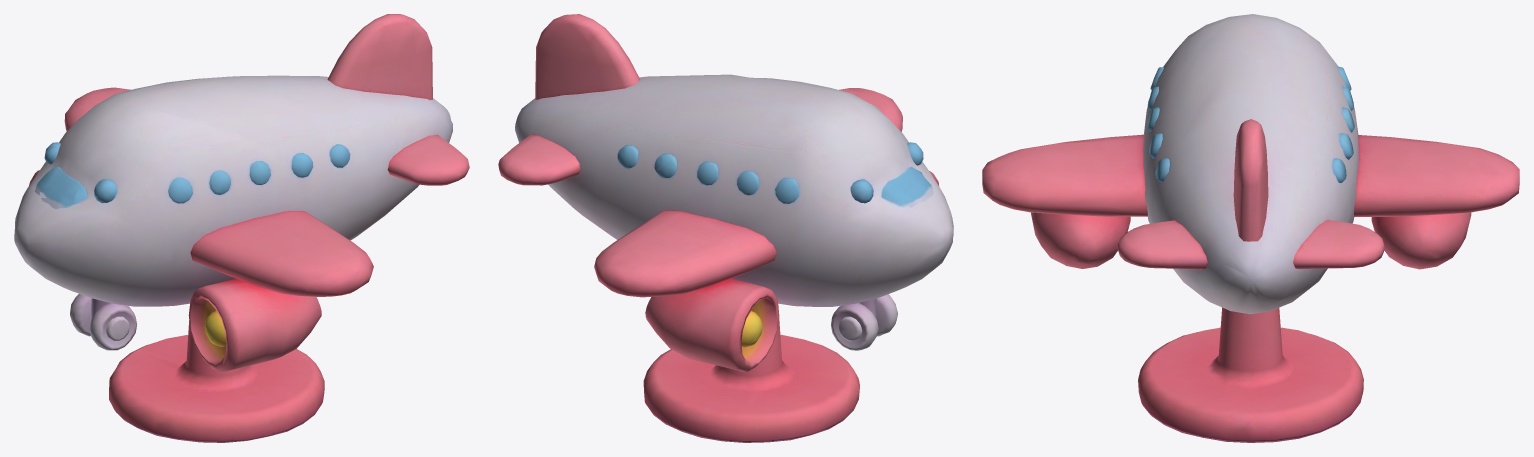
File: toy-plane.glb
3 views of the same model, side by side, from view 1: azimuth 30°, elevation 25°; view 2: azimuth 150°, elevation 25°; view 3: azimuth 270°, elevation 25° (orthographic). The views are drawn at different scales.
Visible parts, largest first — view 1: geometry_0; view 2: geometry_0; view 3: geometry_0.
Boxes of the visible parts, left/top/right/bottom form: geometry_0: left=14, top=14, right=469, bottom=442; geometry_0: left=498, top=14, right=953, bottom=442; geometry_0: left=982, top=14, right=1519, bottom=442.
Size of the model in its own units: 0.9739 by 0.7423 by 1.
1 material, 1 textured.
